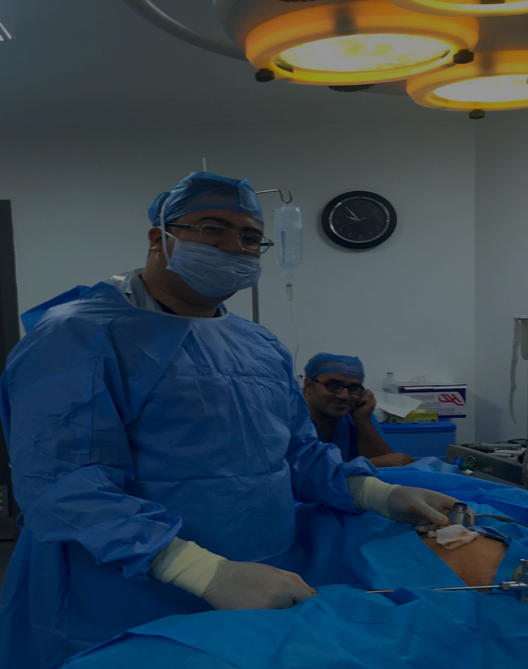mask_weared_incorrect: (147, 176, 281, 302)
